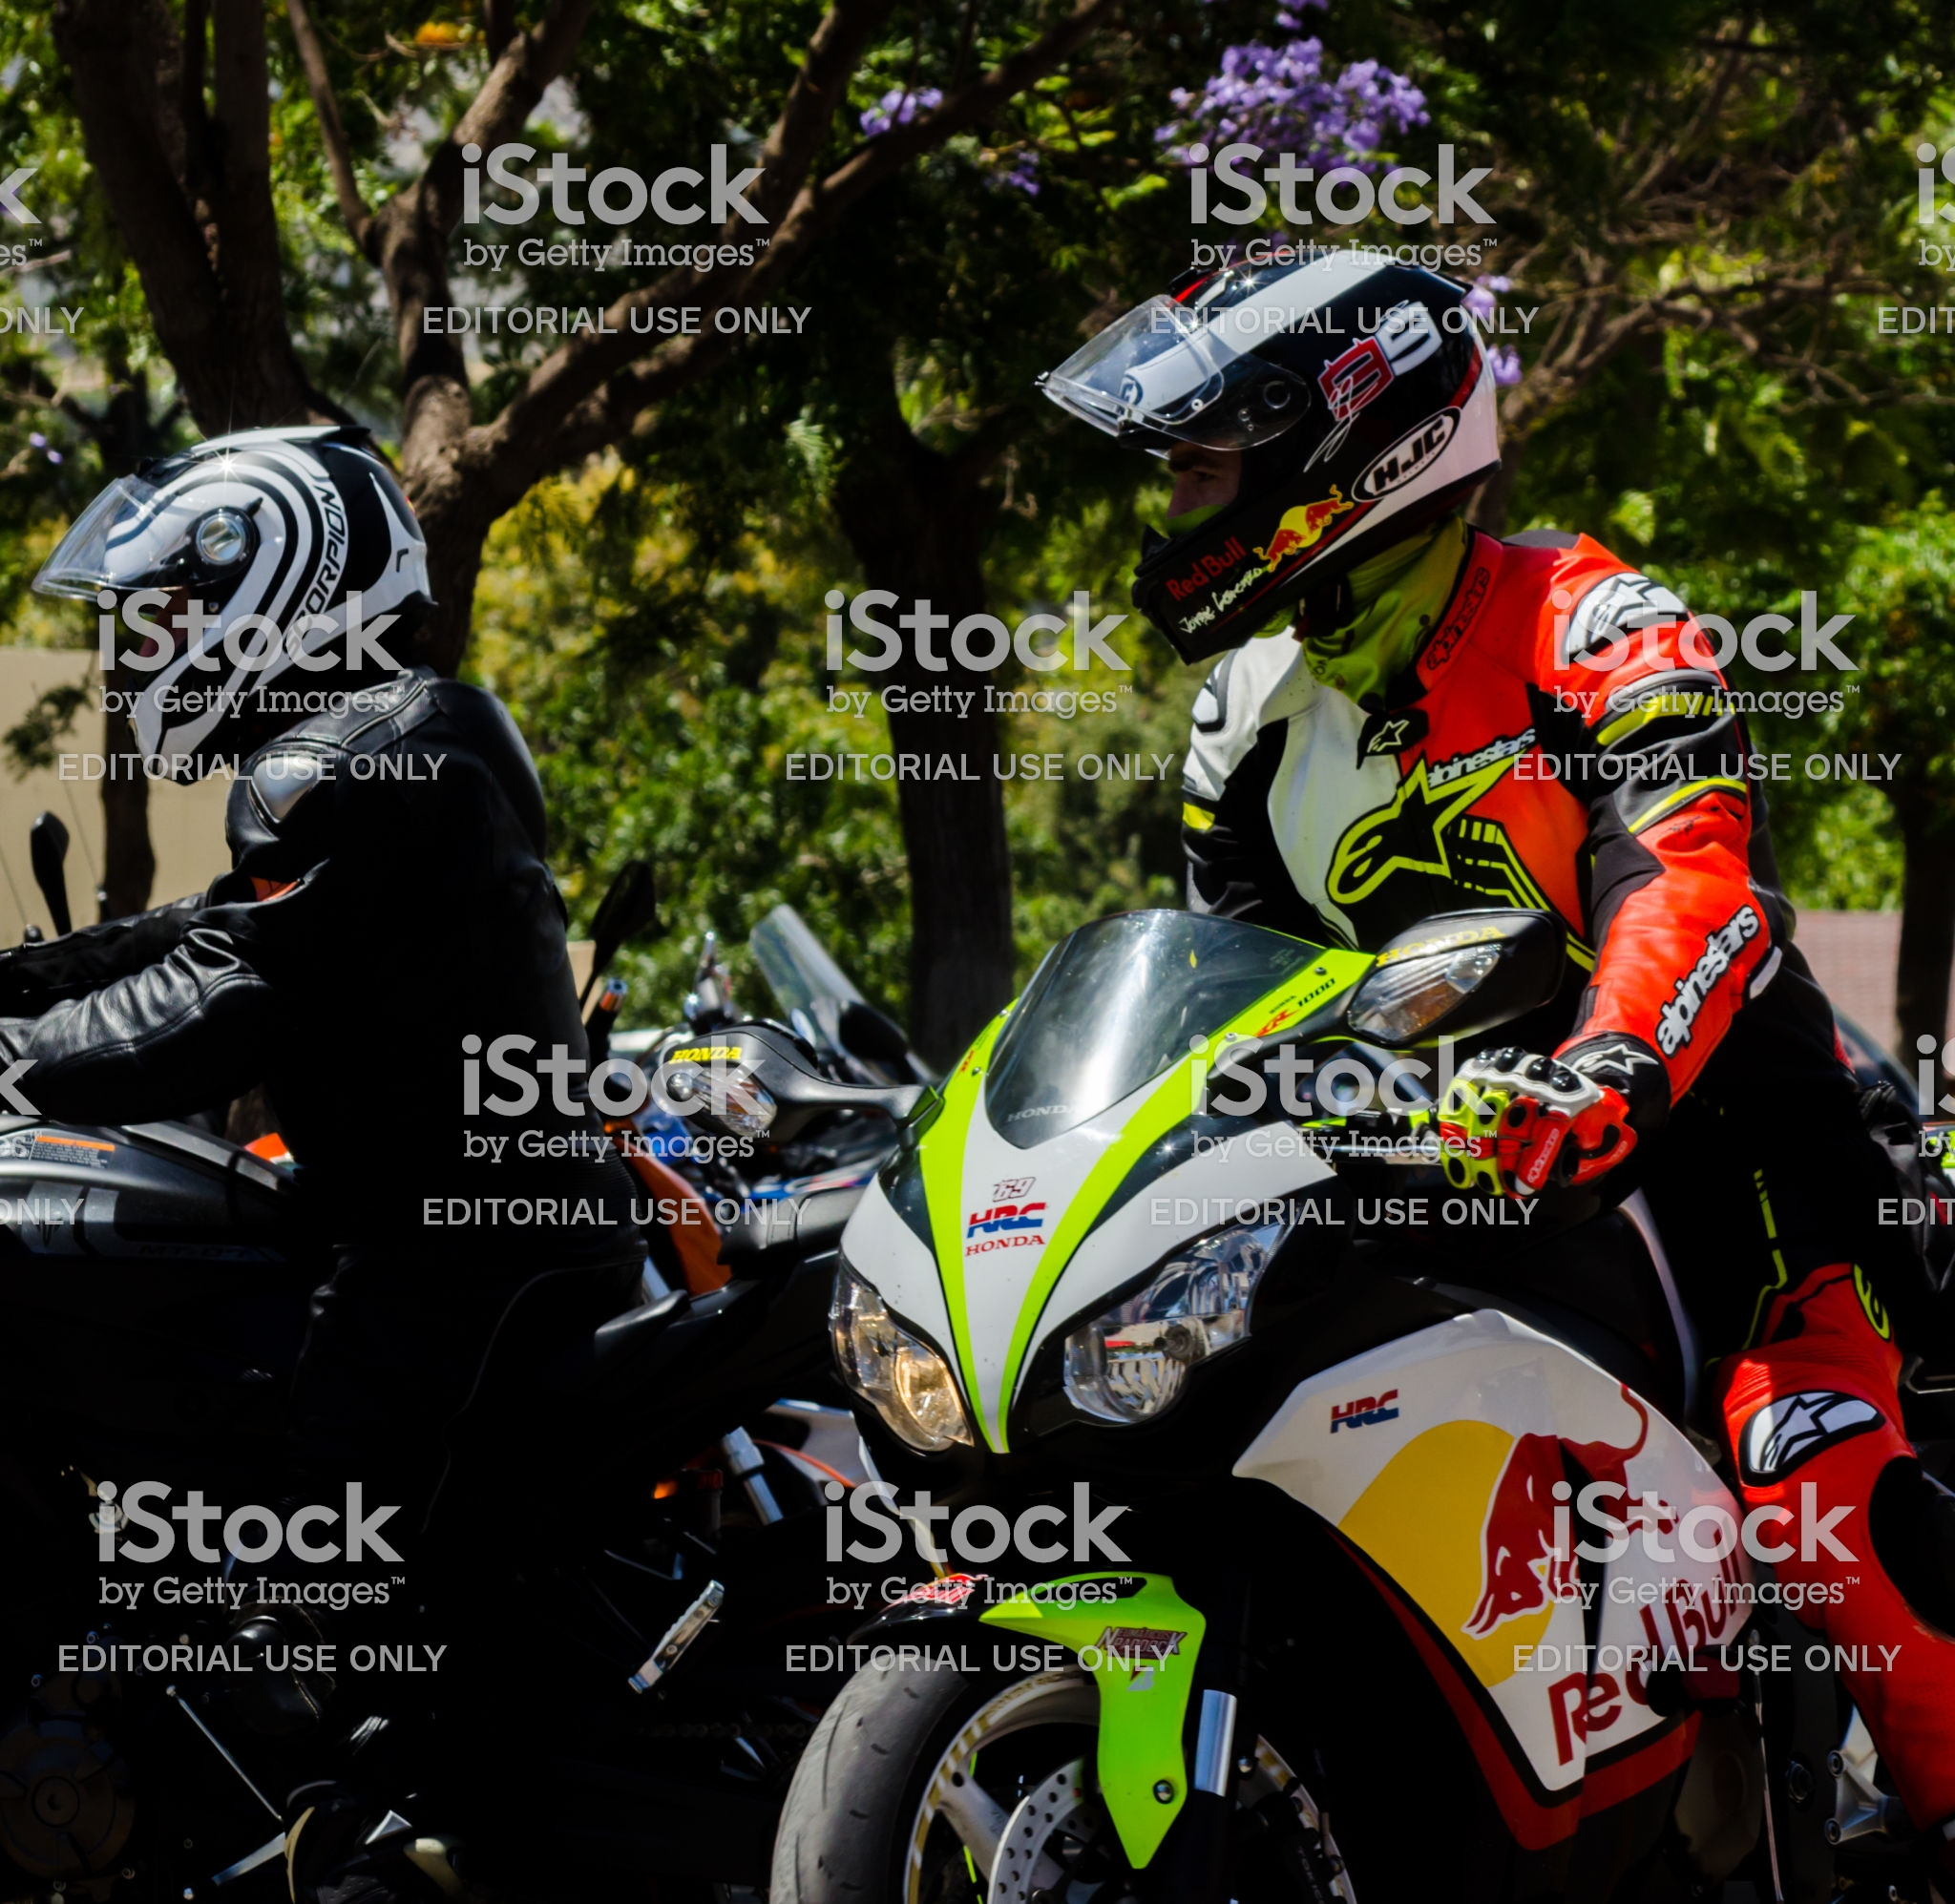helmet: (1133, 225, 1517, 667), (82, 403, 457, 756)
